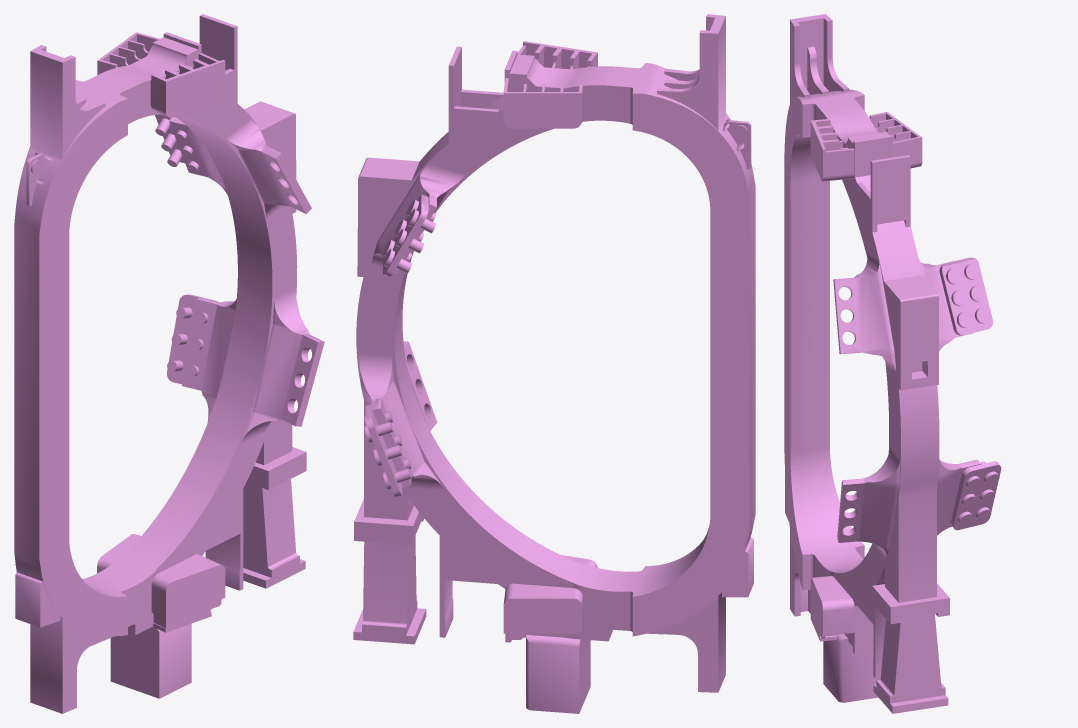
3 renders of one model, left to right at view 1: azimuth 30°, elevation 25°; view 2: azimuth 150°, elevation 25°; view 3: azimuth 270°, elevation 25°, orthographic. The views are drawn at different scales.
Parts seen in each view (by area): view 1: ITER_MESH__tf-b, ITER_QCAP__tf-b__020, ITER_QCAP__tf-b__028, ITER_QCAP__tf-b__027, ITER_QCAP__tf-b__000; view 2: ITER_MESH__tf-b, ITER_QCAP__tf-b__020, ITER_QCAP__tf-b__028; view 3: ITER_MESH__tf-b, ITER_QCAP__tf-b__020, ITER_QCAP__tf-b__027, ITER_QCAP__tf-b__077, ITER_QCAP__tf-b__063, ITER_QCAP__tf-b__024.
Boxes of the visible parts, bbox=[...] form: ITER_MESH__tf-b: bbox=[14, 14, 324, 713]; ITER_QCAP__tf-b__020: bbox=[39, 208, 69, 535]; ITER_QCAP__tf-b__028: bbox=[39, 174, 69, 236]; ITER_QCAP__tf-b__027: bbox=[241, 151, 290, 206]; ITER_QCAP__tf-b__000: bbox=[50, 573, 98, 619]; ITER_MESH__tf-b: bbox=[353, 14, 755, 713]; ITER_QCAP__tf-b__020: bbox=[710, 199, 749, 527]; ITER_QCAP__tf-b__028: bbox=[686, 148, 751, 211]; ITER_MESH__tf-b: bbox=[784, 14, 1001, 713]; ITER_QCAP__tf-b__020: bbox=[784, 143, 829, 452]; ITER_QCAP__tf-b__027: bbox=[850, 269, 957, 351]; ITER_QCAP__tf-b__077: bbox=[855, 265, 954, 349]; ITER_QCAP__tf-b__063: bbox=[825, 113, 885, 177]; ITER_QCAP__tf-b__024: bbox=[841, 333, 972, 541].
Size of the model in its own units: 8.9 by 17.15 by 7.07.
